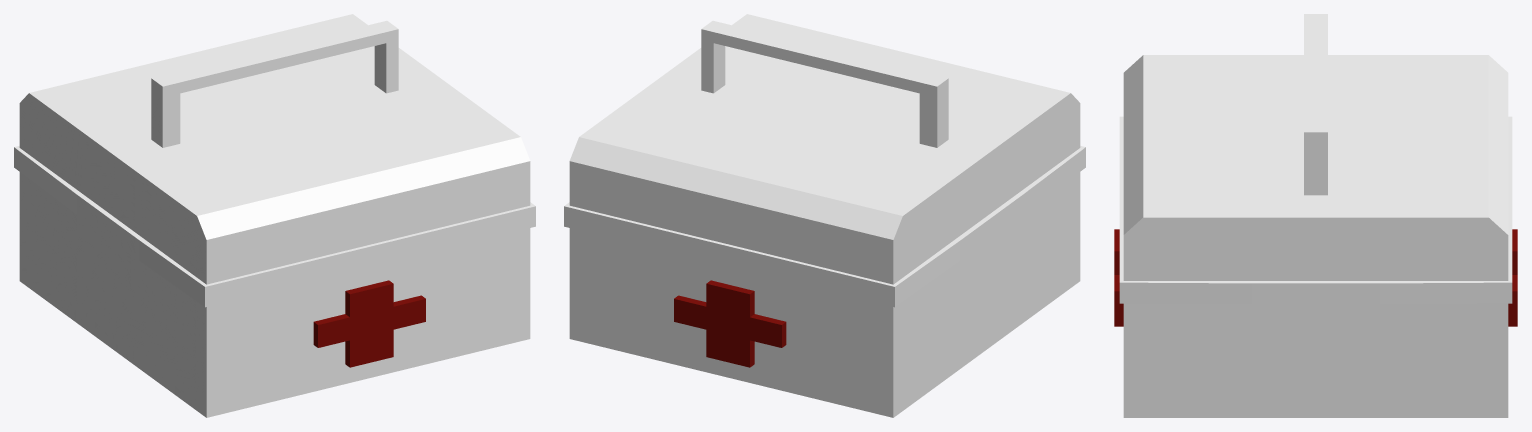
Rendered from Medkit.fbx.
The picture shows the model from 3 angles, left to right: view 1: azimuth 30°, elevation 25°; view 2: azimuth 150°, elevation 25°; view 3: azimuth 270°, elevation 25°; orthographic projection. The views are drawn at different scales.
Parts seen in each view (by area): view 1: Cube; view 2: Cube; view 3: Cube.
Part boxes in pixels (x1,y1,x2,y2): Cube: [14, 14, 535, 417]; Cube: [564, 14, 1085, 417]; Cube: [1114, 14, 1517, 417].
Size of the model in its own units: 206 by 151 by 210.
